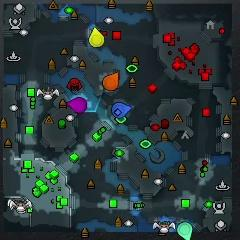p1: (112, 102, 131, 118)
p2: (177, 222, 192, 240)
p3: (67, 96, 87, 114)
p4: (89, 27, 104, 47)
p5: (102, 72, 119, 91)
